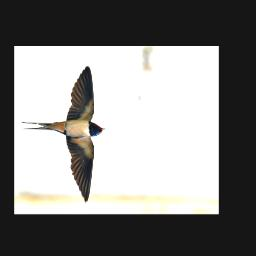Swallow: (20, 62, 106, 205)
